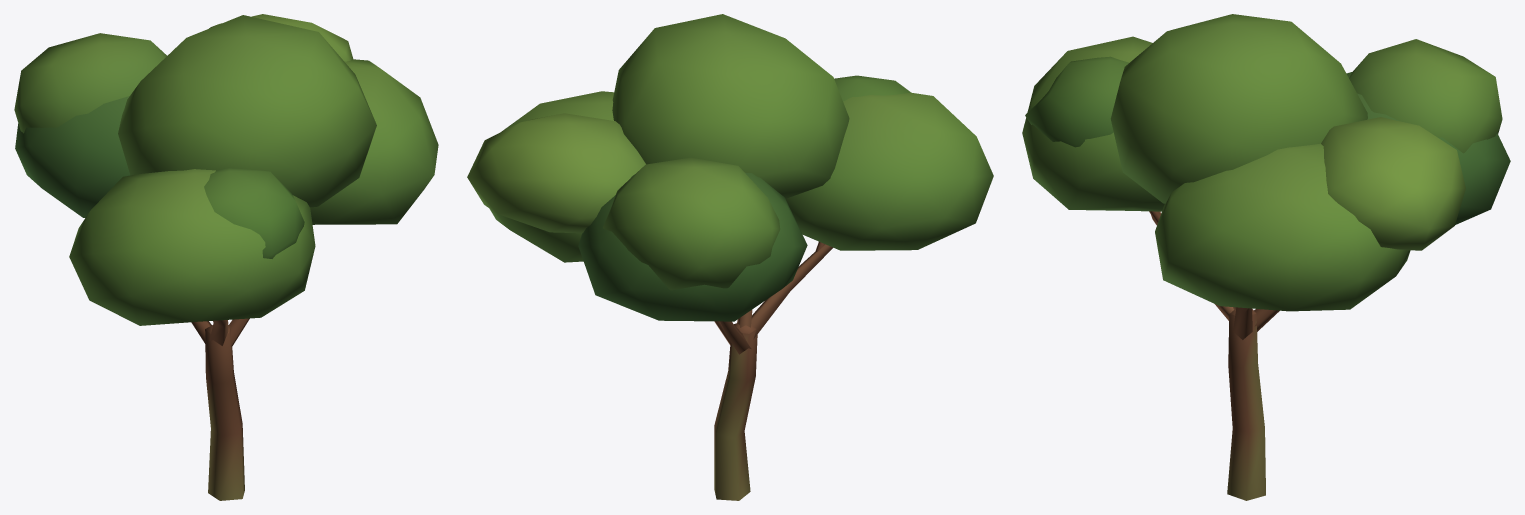
File: apple_tree_young_lod1.glb
The picture shows the model from 3 angles, left to right: view 1: azimuth 30°, elevation 25°; view 2: azimuth 150°, elevation 25°; view 3: azimuth 270°, elevation 25°; orthographic projection. The views are drawn at different scales.
Visible parts, largest first — view 1: orchard_apple_tree_young_lod1_Canopy, orchard_apple_tree_young_lod1_Trunk; view 2: orchard_apple_tree_young_lod1_Canopy, orchard_apple_tree_young_lod1_Trunk; view 3: orchard_apple_tree_young_lod1_Canopy, orchard_apple_tree_young_lod1_Trunk.
Boxes of the visible parts, x1,y1,x2,y2 form: orchard_apple_tree_young_lod1_Canopy: (14, 14, 438, 325); orchard_apple_tree_young_lod1_Trunk: (191, 318, 249, 500); orchard_apple_tree_young_lod1_Canopy: (467, 14, 993, 321); orchard_apple_tree_young_lod1_Trunk: (714, 241, 832, 500); orchard_apple_tree_young_lod1_Canopy: (1022, 14, 1510, 311); orchard_apple_tree_young_lod1_Trunk: (1149, 211, 1279, 500).
Bounding box in the file's own units: 2.67 × 2.86 × 2.67.
